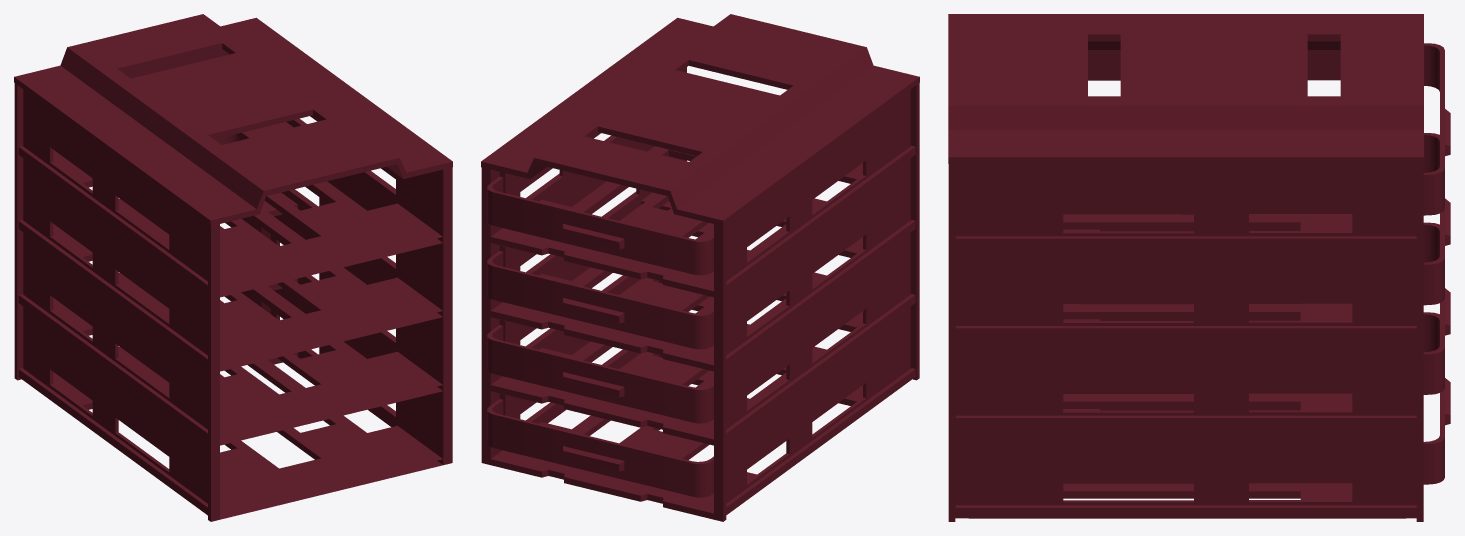
The model's file is pc_case_extra_holder_b.fbx.
3 renders of one model, left to right at view 1: azimuth 30°, elevation 25°; view 2: azimuth 150°, elevation 25°; view 3: azimuth 270°, elevation 25°, orthographic. The views are drawn at different scales.
Parts seen in each view (by area): view 1: pc_case_extra_holder_b; view 2: pc_case_extra_holder_b; view 3: pc_case_extra_holder_b.
Boxes of the visible parts, x1,y1,x2,y2 form: pc_case_extra_holder_b: (14,14,452,521); pc_case_extra_holder_b: (481,14,919,521); pc_case_extra_holder_b: (948,14,1450,521).
Size of the model in its own units: 10.96 by 13.74 by 16.23.
